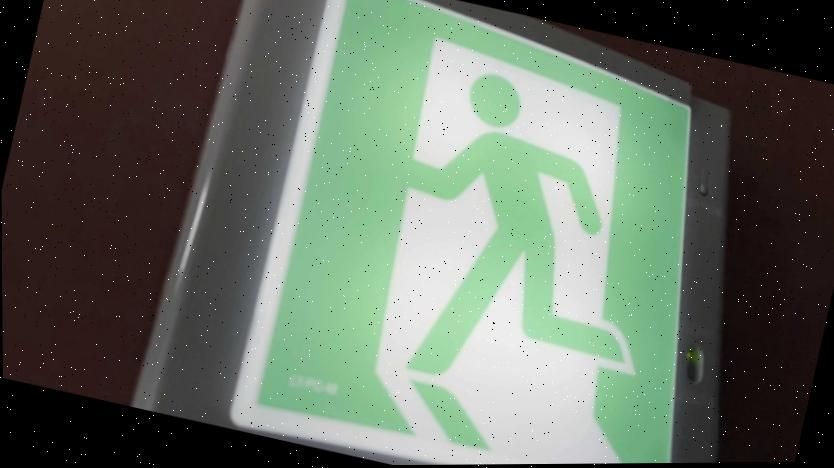emergency_exit: (5, 1, 829, 465), (225, 1, 695, 464)
